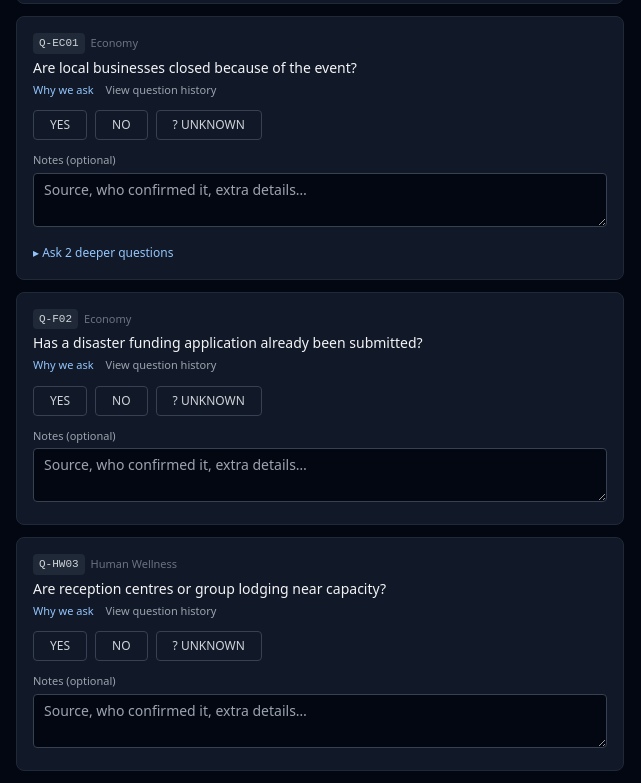
it: UNKNOWN on a non-safety question only creates a verification task
(page scrolled)
Click the radio button labelled "? UNKNOWN" below "Q-F02".
click(209, 400)  # box [156,386,262,416]
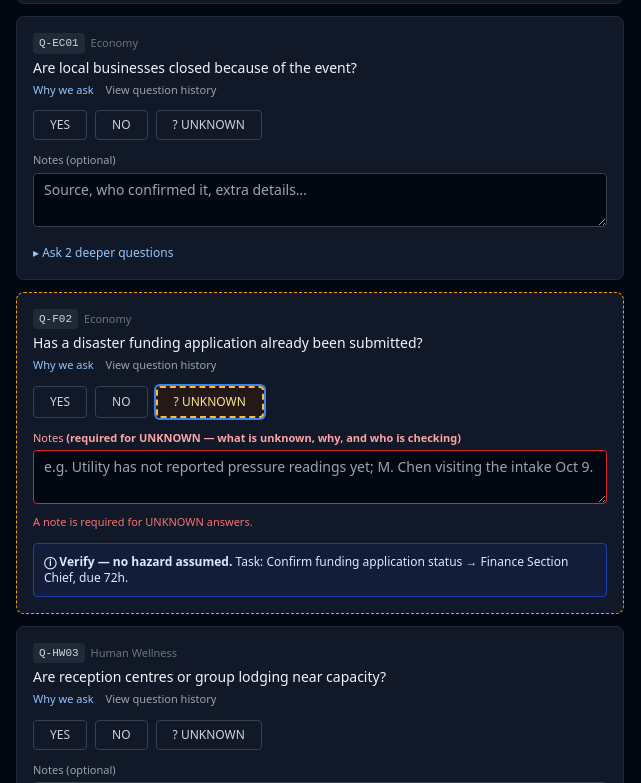
Check: the element "Q-F02" shows "Verify — no hazard assumed", box [44,552,232,570]
